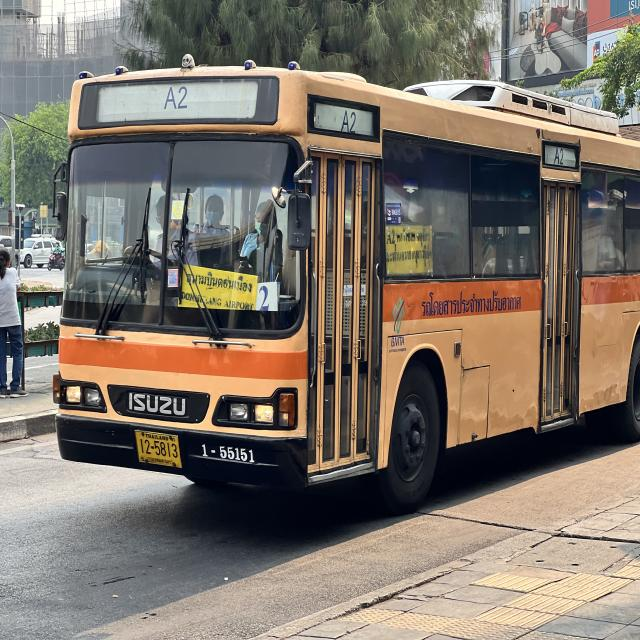BMTA-bus: (49, 53, 640, 527)
Bus-Line-Number: (157, 84, 194, 117)
Destination-Sign-Normal-Expressway: (179, 262, 257, 313)
